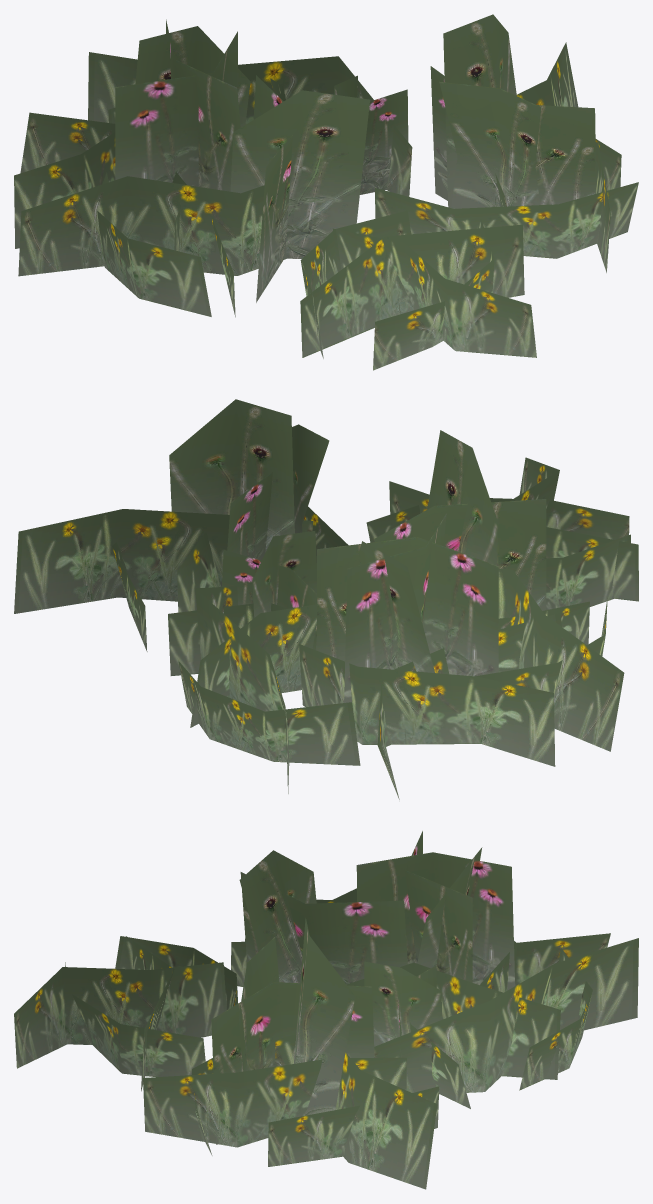
The model's file is proc_meadowmix_01.FBX.
The picture shows the model from 3 angles, top to bottom: view 1: azimuth 30°, elevation 25°; view 2: azimuth 150°, elevation 25°; view 3: azimuth 270°, elevation 25°; orthographic projection. The views are drawn at different scales.
Parts seen in each view (by area): view 1: proc_meadowmix_01; view 2: proc_meadowmix_01; view 3: proc_meadowmix_01.
Boxes of the visible parts, x1,y1,x2,y2 form: proc_meadowmix_01: (14, 14, 638, 370); proc_meadowmix_01: (14, 399, 638, 799); proc_meadowmix_01: (14, 831, 638, 1189).
Size of the model in its own units: 1.97 by 1.99 by 0.6523.
1 material, 1 textured.
